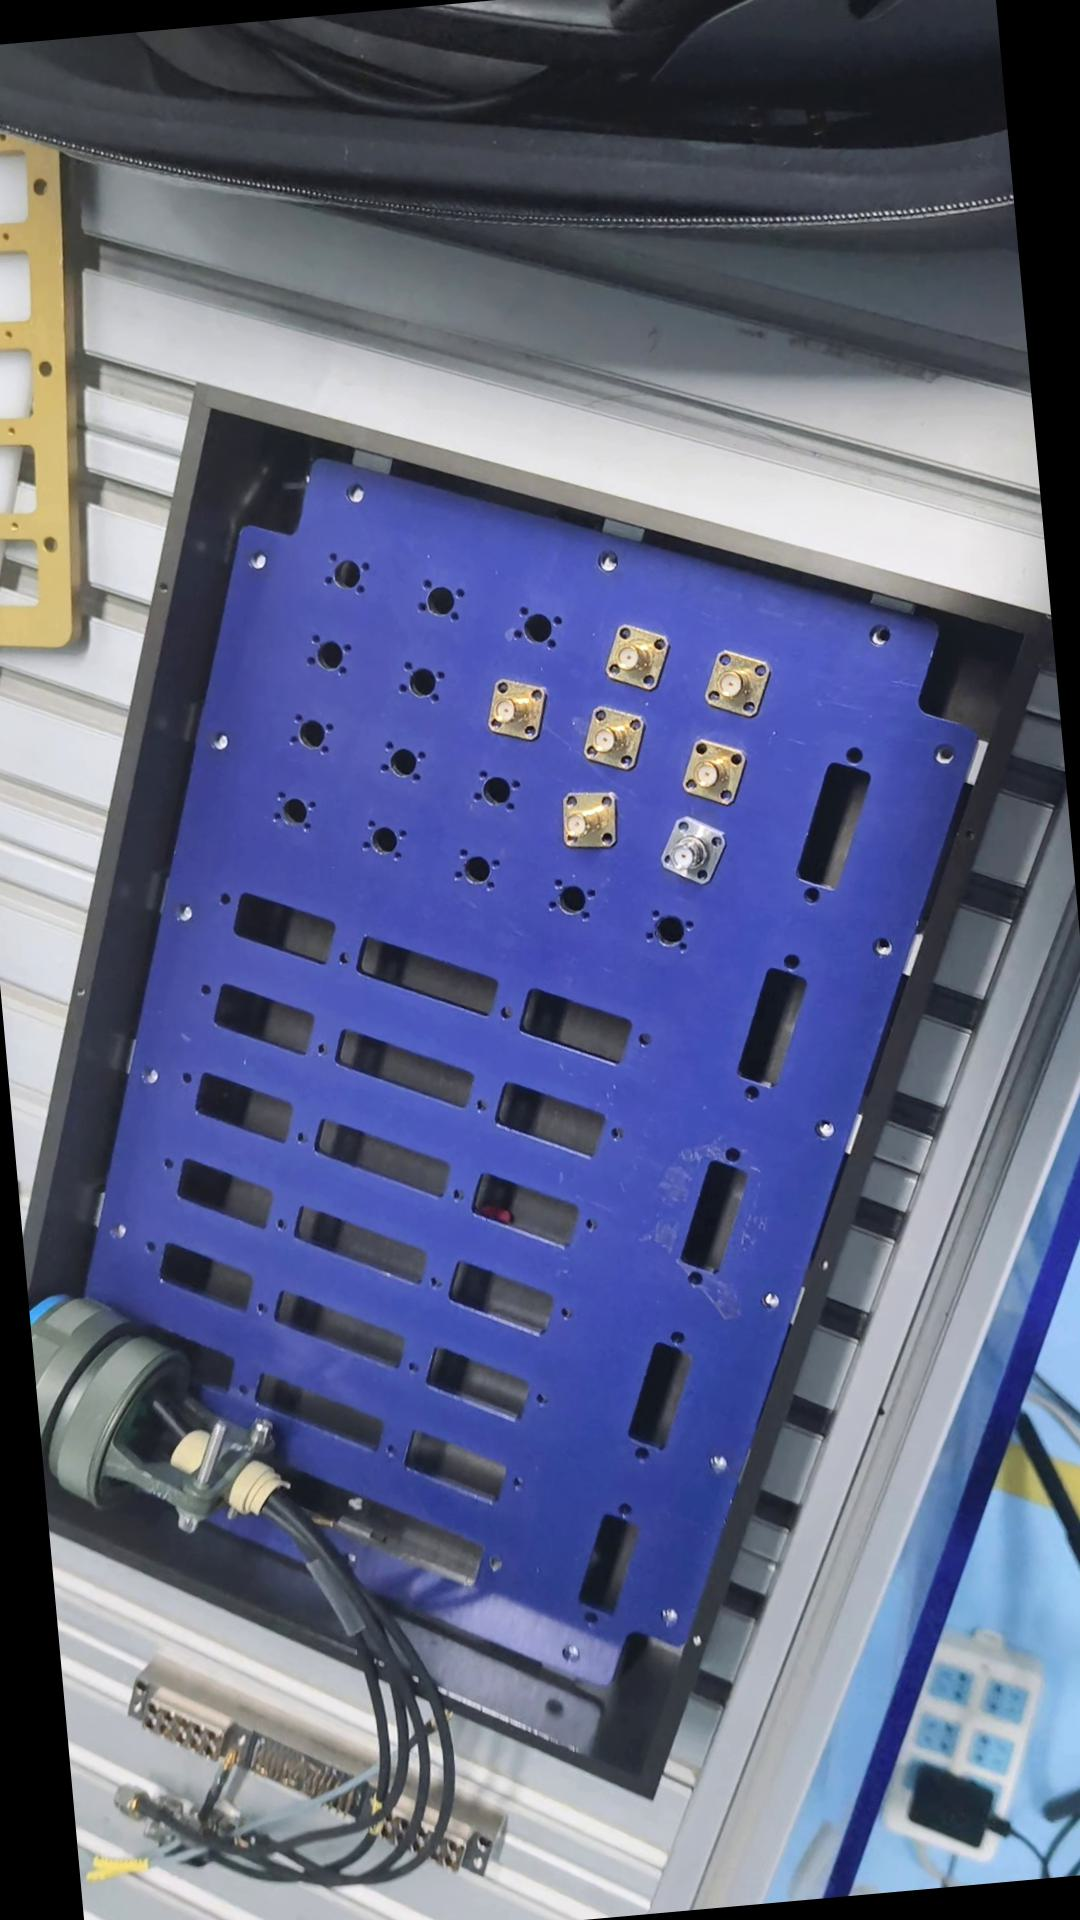SMA: (596, 615, 671, 698), (647, 808, 723, 887), (576, 699, 653, 769), (698, 647, 771, 717), (674, 741, 745, 808), (479, 674, 545, 746), (550, 793, 618, 852)
